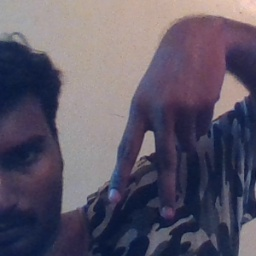Y: (106, 74, 194, 228)
